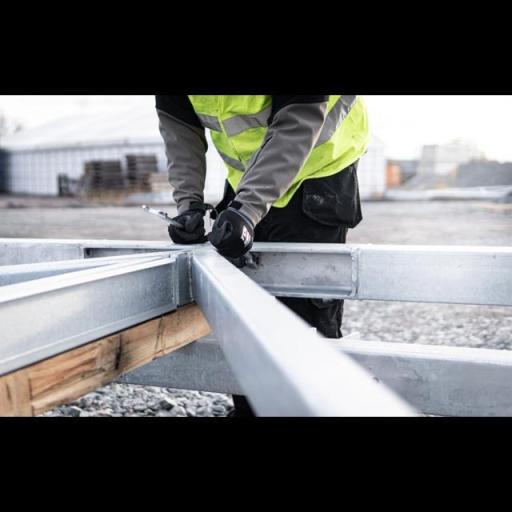Person: (126, 93, 366, 340)
gloves: (193, 202, 278, 279), (153, 200, 218, 250)
vest: (145, 92, 381, 262)
